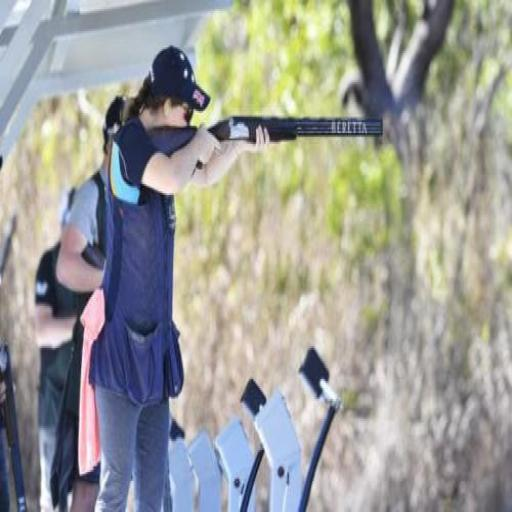shooting: (82, 44, 272, 510)
